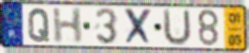3: (91, 7, 120, 46)
8: (197, 8, 220, 48)
H: (51, 7, 84, 45)
Q: (27, 7, 51, 44)
U: (161, 7, 193, 48)
X: (123, 7, 154, 47)
